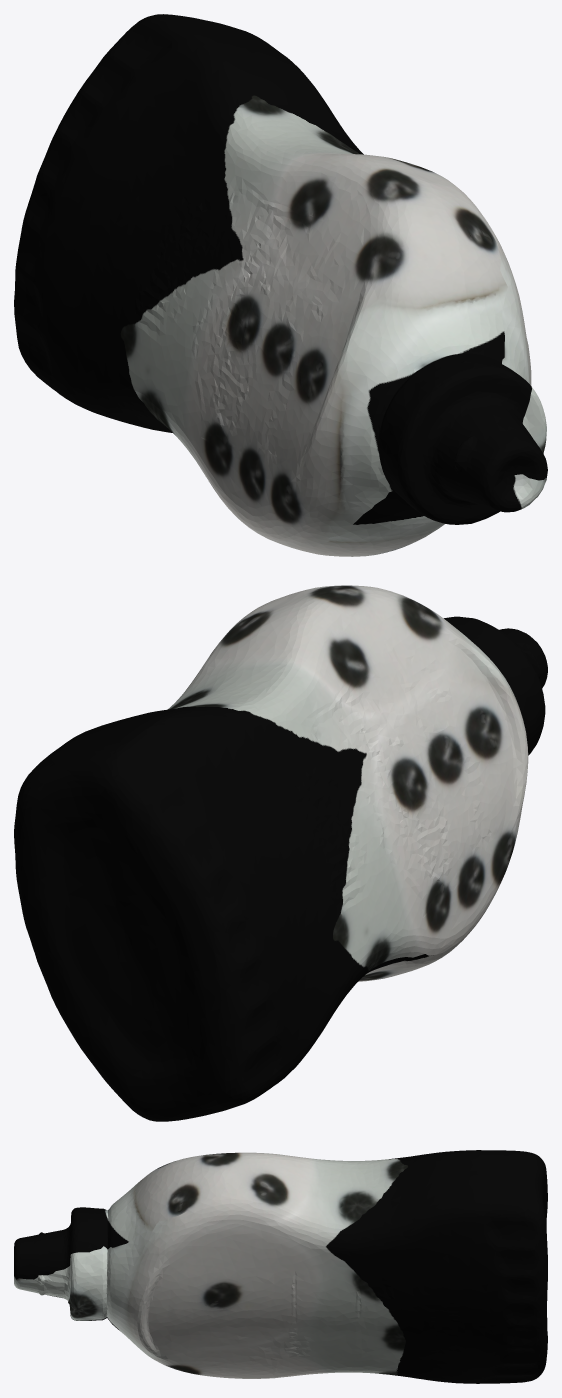
3 renders of one model, top to bottom at view 1: azimuth 30°, elevation 25°; view 2: azimuth 150°, elevation 25°; view 3: azimuth 270°, elevation 25°, orthographic. The views are drawn at different scales.
Parts seen in each view (by area): view 1: node_shape0.004; view 2: node_shape0.004; view 3: node_shape0.004.
Part boxes in pixels (<box>): node_shape0.004: <box>14,14,547,556</box>; node_shape0.004: <box>14,585,547,1121</box>; node_shape0.004: <box>14,1150,547,1383</box>.
Size of the model in its own units: 0.0666 by 0.0972 by 0.1913.
